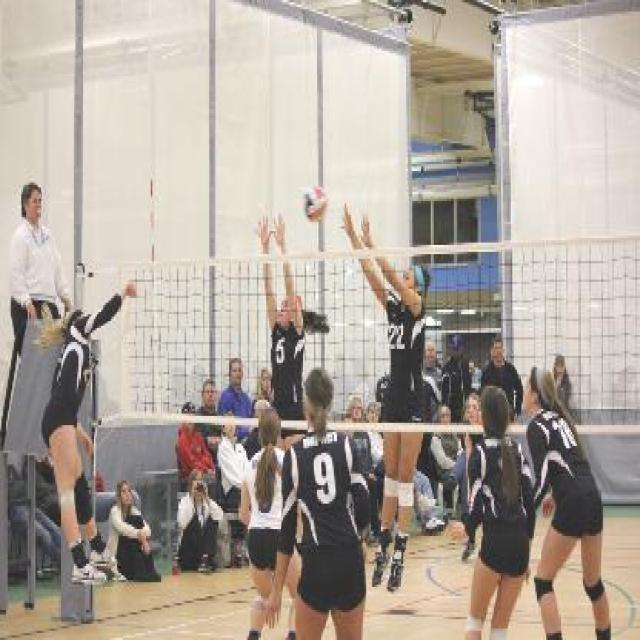volleyball: (304, 188, 329, 222)
